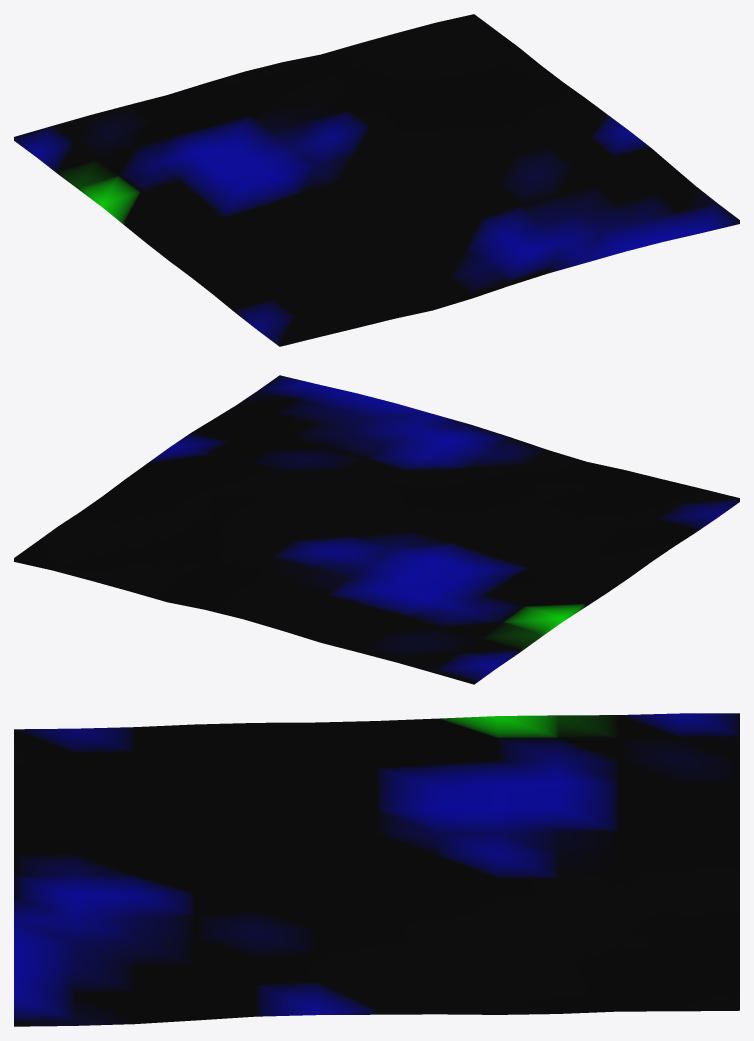
Rendered from coast_4_6.glb.
The picture shows the model from 3 angles, top to bottom: view 1: azimuth 30°, elevation 25°; view 2: azimuth 150°, elevation 25°; view 3: azimuth 270°, elevation 25°; orthographic projection. The views are drawn at different scales.
Visible parts, largest first — view 1: terrain; view 2: terrain; view 3: terrain.
Boxes of the visible parts, x1,y1,x2,y2 form: terrain: (14, 14, 739, 346); terrain: (14, 375, 739, 684); terrain: (14, 713, 739, 1026).
Bounding box in the file's own units: 192 × 11.16 × 192.
